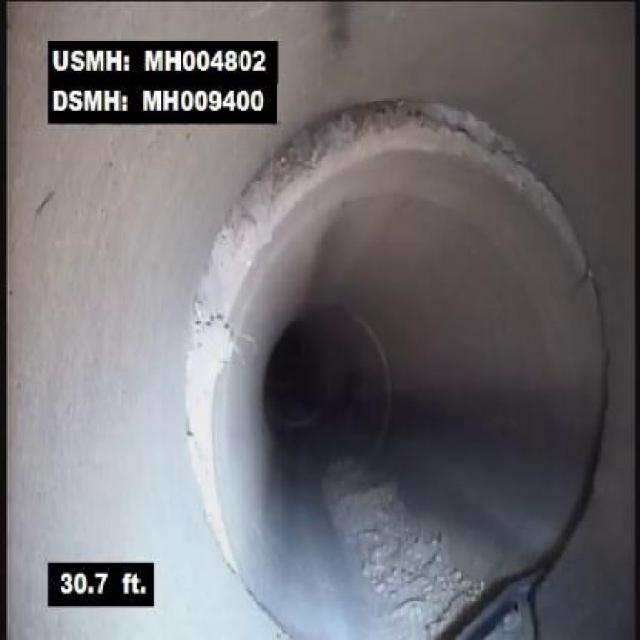Joint offset: (174, 120, 311, 591), (280, 92, 608, 286)
